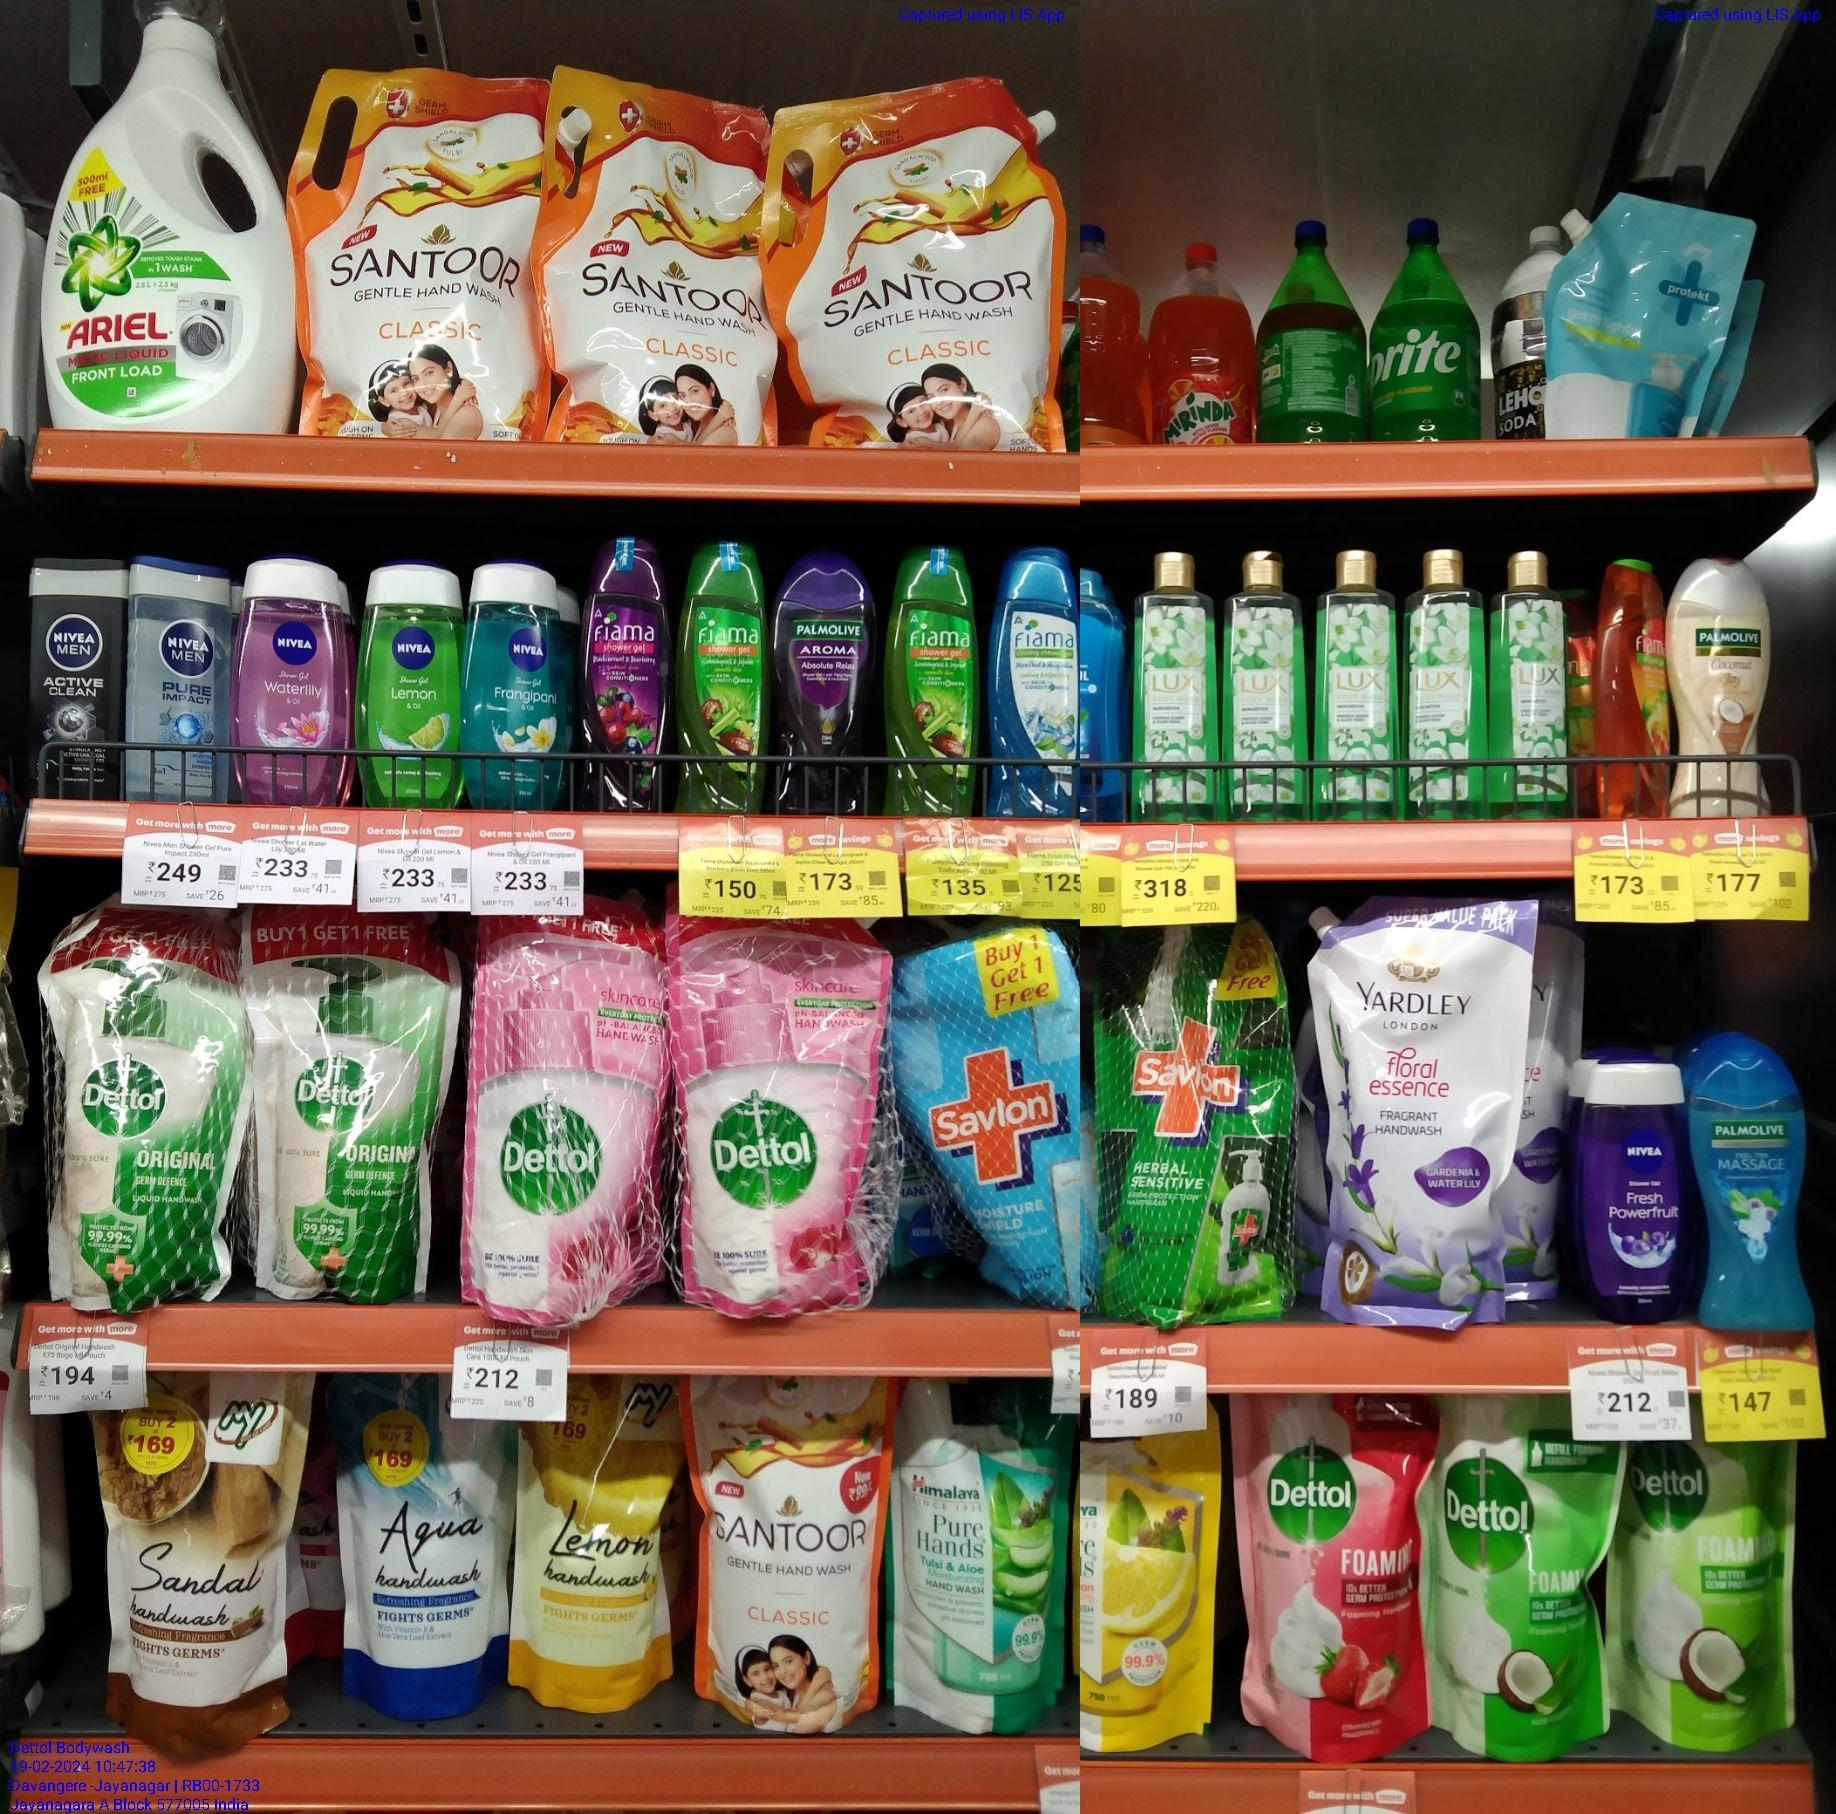Fiama_Shower_Gel_Lemongrass_and_Jojoba_250ML: (668, 543, 768, 814), (881, 545, 974, 817)
Lux_Body_Wash_Skin_Detox_Freesia_Scent_and_Alove_Vera_245ML: (1132, 552, 1225, 824), (1311, 548, 1402, 819), (1402, 547, 1489, 826), (1490, 547, 1572, 821), (1226, 550, 1308, 822)
Nivea_Shower_Gel_Frangipani_and_Oil_250ML: (465, 563, 565, 812)
Nivea_Shower_Gel_Fresh_Powerfruit_250ML: (1572, 1058, 1683, 1324)
Nivea_Shower_Gel_Lemon_and_Oil_250ML: (357, 563, 460, 809)
Nivea_Shower_Gel_Waterlily_and_Oil_250ML: (234, 558, 352, 806)
Palmolive_Aroma_Moments_Feel_The_Massage_Shower_Gel_250ML: (1686, 1037, 1824, 1332)
Palmolive_Coconut_Joy_Exfoliating_Body_Wash_250ML: (1667, 548, 1771, 816)
